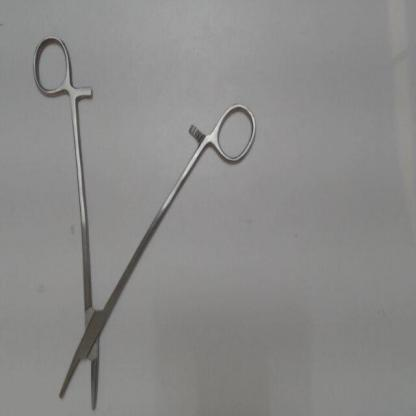8 Mayo Needle Holder: (25, 29, 268, 415)
